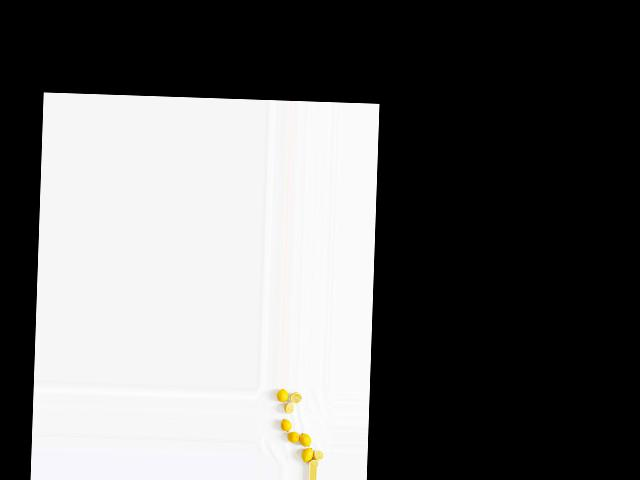lemon: (299, 443, 313, 463)
